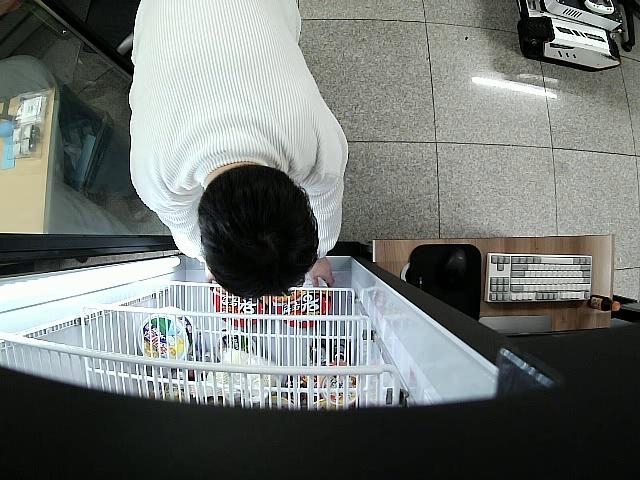00_hand: (305, 259, 336, 290)
10_wangTtukkeong: (277, 275, 331, 327), (213, 281, 265, 328)
